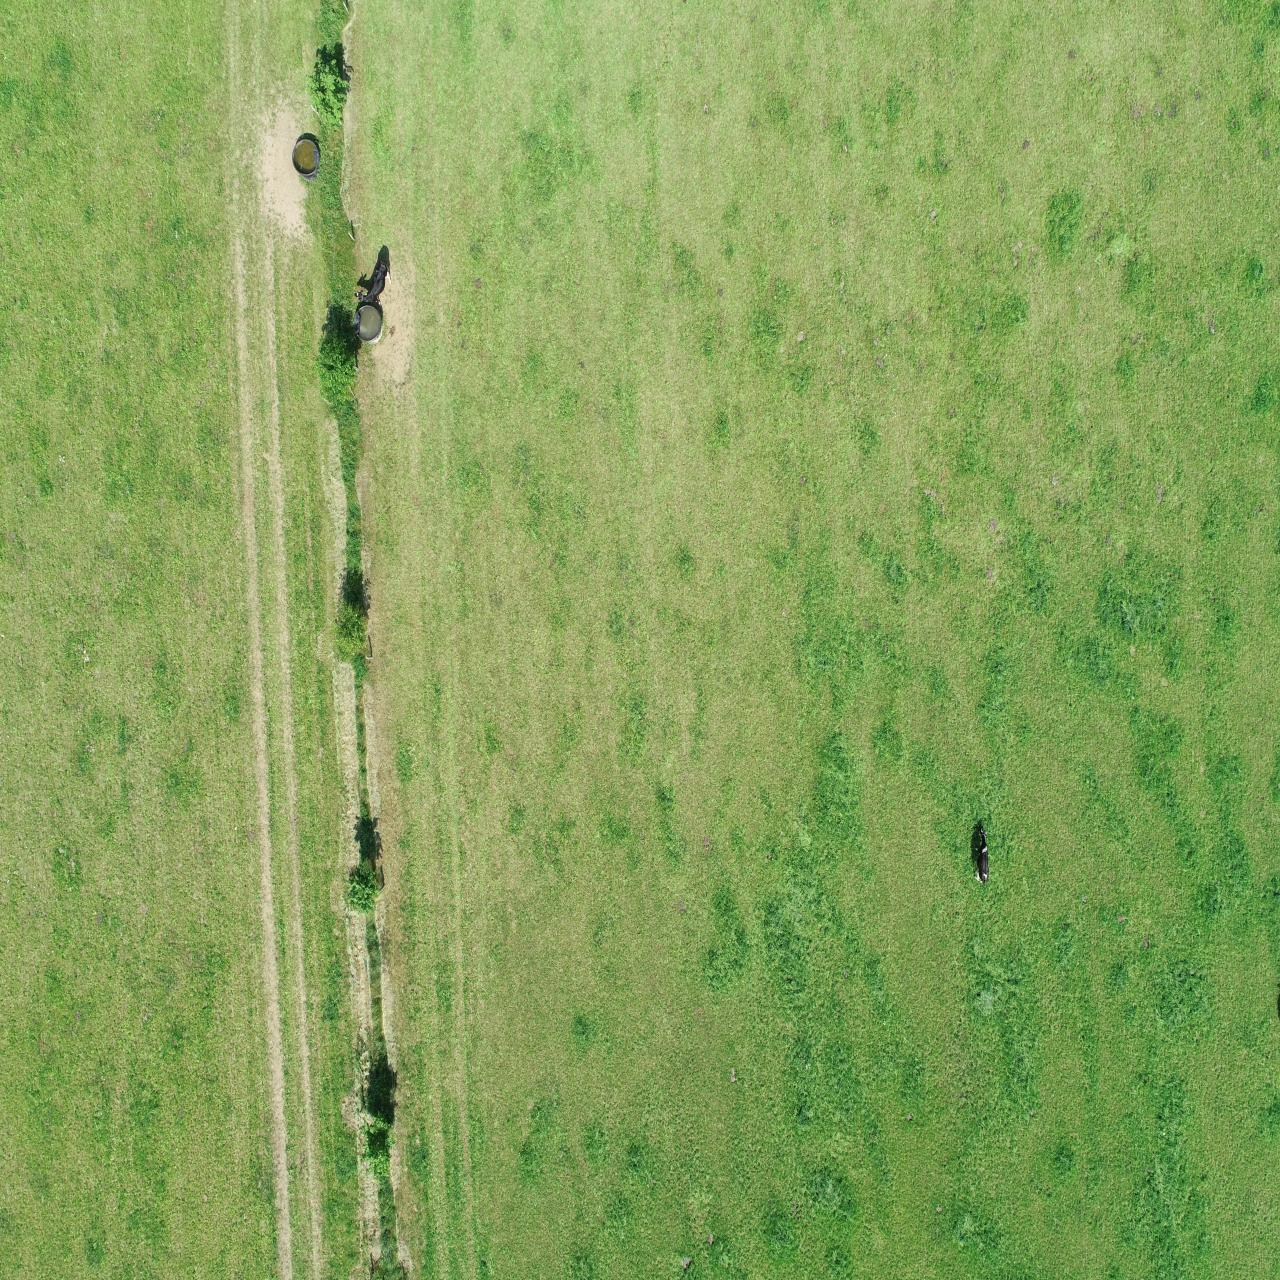cow: (349, 257, 397, 308), (972, 826, 995, 888)
